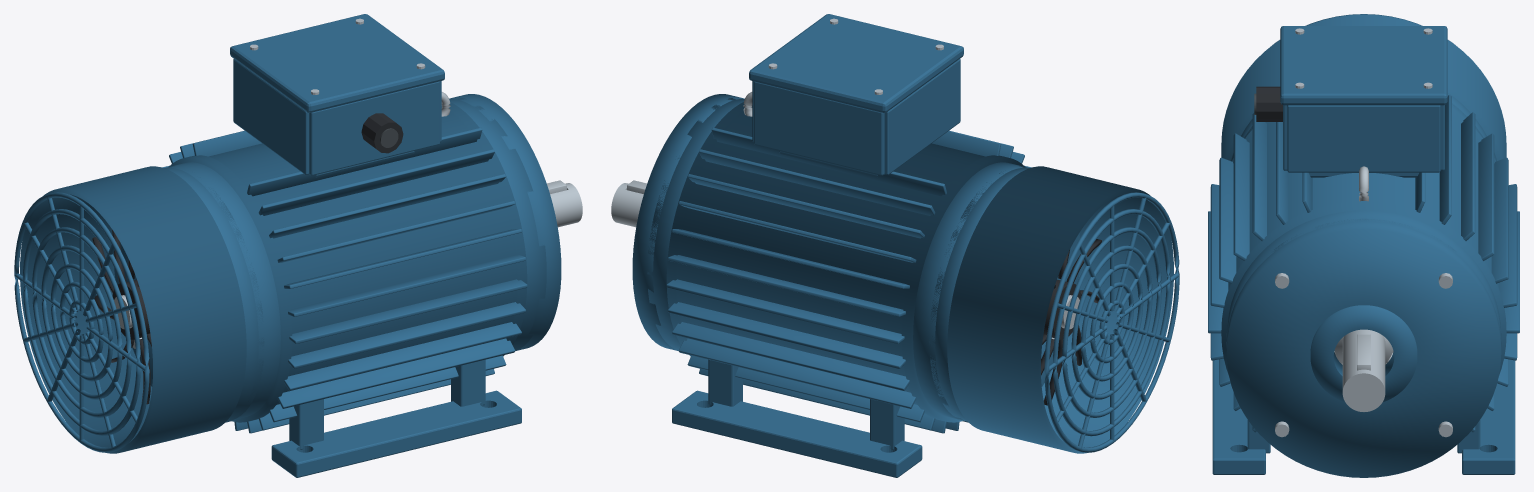
Rendered from motor-3ph.glb.
3 renders of one model, left to right at view 1: azimuth 30°, elevation 25°; view 2: azimuth 150°, elevation 25°; view 3: azimuth 270°, elevation 25°, orthographic. The views are drawn at different scales.
Parts seen in each view (by area): view 1: Housing, FanCowl, TerminalBox, TerminalBoxCover, Feet, EndShield_NDE, EndShield_DE, Fan, Shaft; view 2: Housing, FanCowl, TerminalBox, TerminalBoxCover, Feet, EndShield_NDE, EndShield_DE, Fan, Shaft; view 3: EndShield_DE, Housing, TerminalBoxCover, TerminalBox, Feet, FanCowl, Shaft, Key, EndShield_NDE.
Boxes of the visible parts, <box> form: Housing: <box>162,92,527,433</box>; FanCowl: <box>14,166,246,453</box>; TerminalBox: <box>233,59,441,177</box>; TerminalBoxCover: <box>230,14,444,112</box>; Feet: <box>271,359,521,477</box>; EndShield_NDE: <box>113,162,280,421</box>; EndShield_DE: <box>449,94,561,350</box>; Fan: <box>92,229,151,404</box>; Shaft: <box>114,183,582,329</box>; Housing: <box>666,92,1031,433</box>; FanCowl: <box>947,166,1179,453</box>; TerminalBox: <box>752,59,960,177</box>; TerminalBoxCover: <box>749,14,963,112</box>; Feet: <box>672,359,922,477</box>; EndShield_NDE: <box>913,162,1080,421</box>; EndShield_DE: <box>632,94,744,350</box>; Fan: <box>1041,239,1101,405</box>; Shaft: <box>611,183,1079,329</box>; EndShield_DE: <box>1226,210,1501,477</box>; Housing: <box>1208,95,1519,432</box>; TerminalBoxCover: <box>1280,26,1447,105</box>; TerminalBox: <box>1254,86,1444,177</box>; Feet: <box>1212,359,1515,474</box>; FanCowl: <box>1221,14,1506,160</box>; Shaft: <box>1342,329,1385,411</box>; Key: <box>1357,334,1370,370</box>; EndShield_NDE: <box>1231,93,1496,161</box>.
Bounding box in the file's own units: 0.3356 × 0.223 × 0.175.
